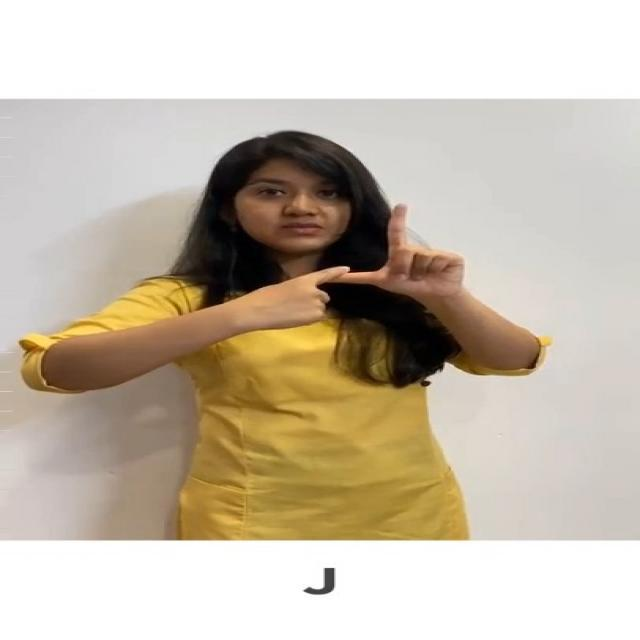J: (235, 198, 476, 334)
